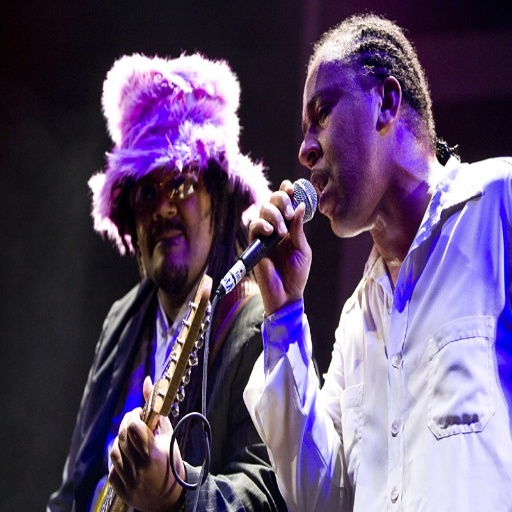hand: (105, 375, 185, 511), (247, 175, 314, 316)
